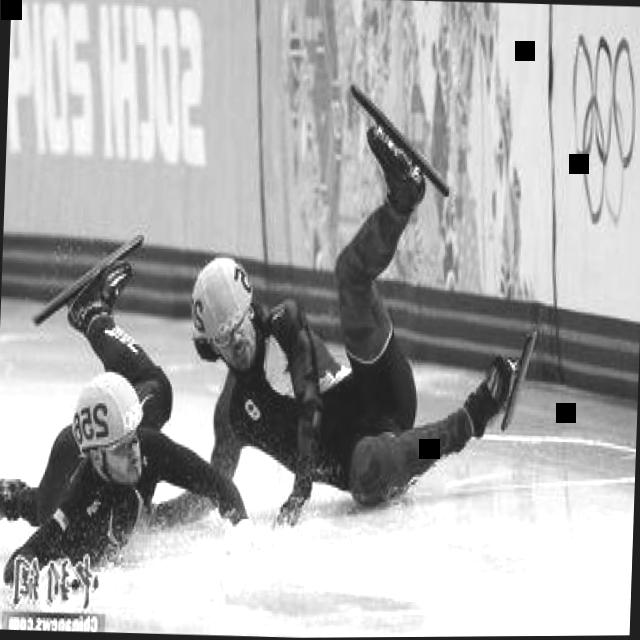Fall-Detected: (161, 67, 557, 556)
